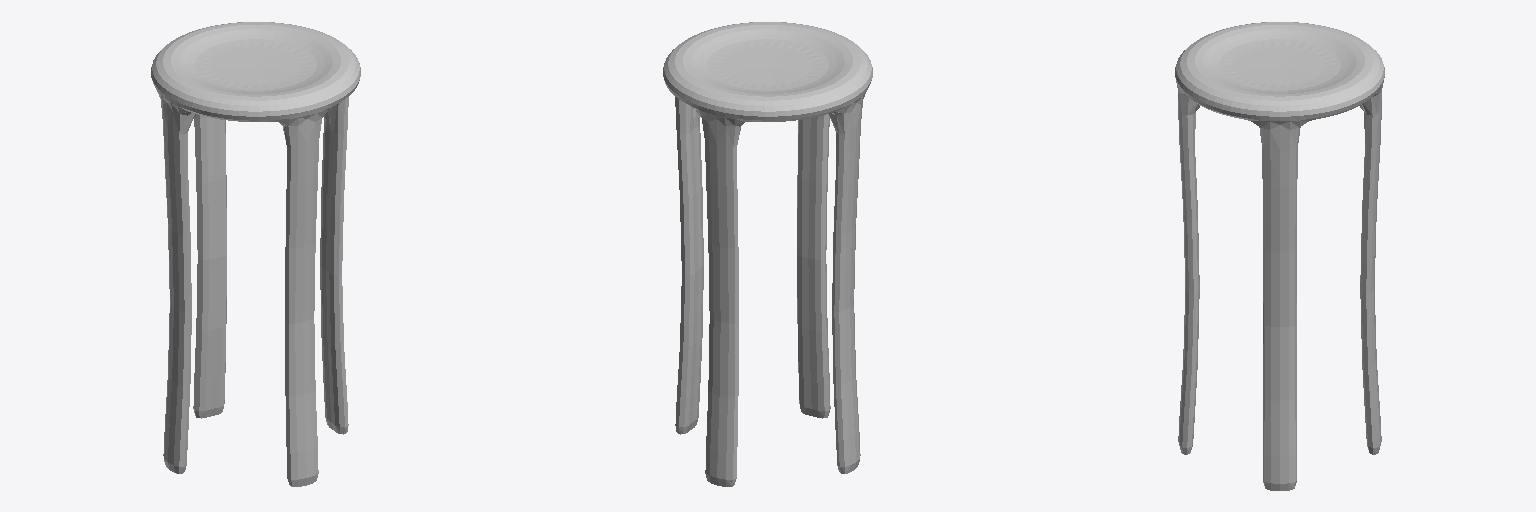
Rendered from bancoTri.obj.
3 renders of one model, left to right at view 1: azimuth 30°, elevation 25°; view 2: azimuth 150°, elevation 25°; view 3: azimuth 270°, elevation 25°, orthographic.
Parts seen in each view (by area): view 1: Cylinder_Cylinder.001; view 2: Cylinder_Cylinder.001; view 3: Cylinder_Cylinder.001.
Boxes of the visible parts, x1=… form: Cylinder_Cylinder.001: x1=151, y1=22, x2=360, y2=486; Cylinder_Cylinder.001: x1=663, y1=22, x2=872, y2=486; Cylinder_Cylinder.001: x1=1175, y1=22, x2=1384, y2=490.
Size of the model in its own units: 0.3783 by 0.7745 by 0.3783.